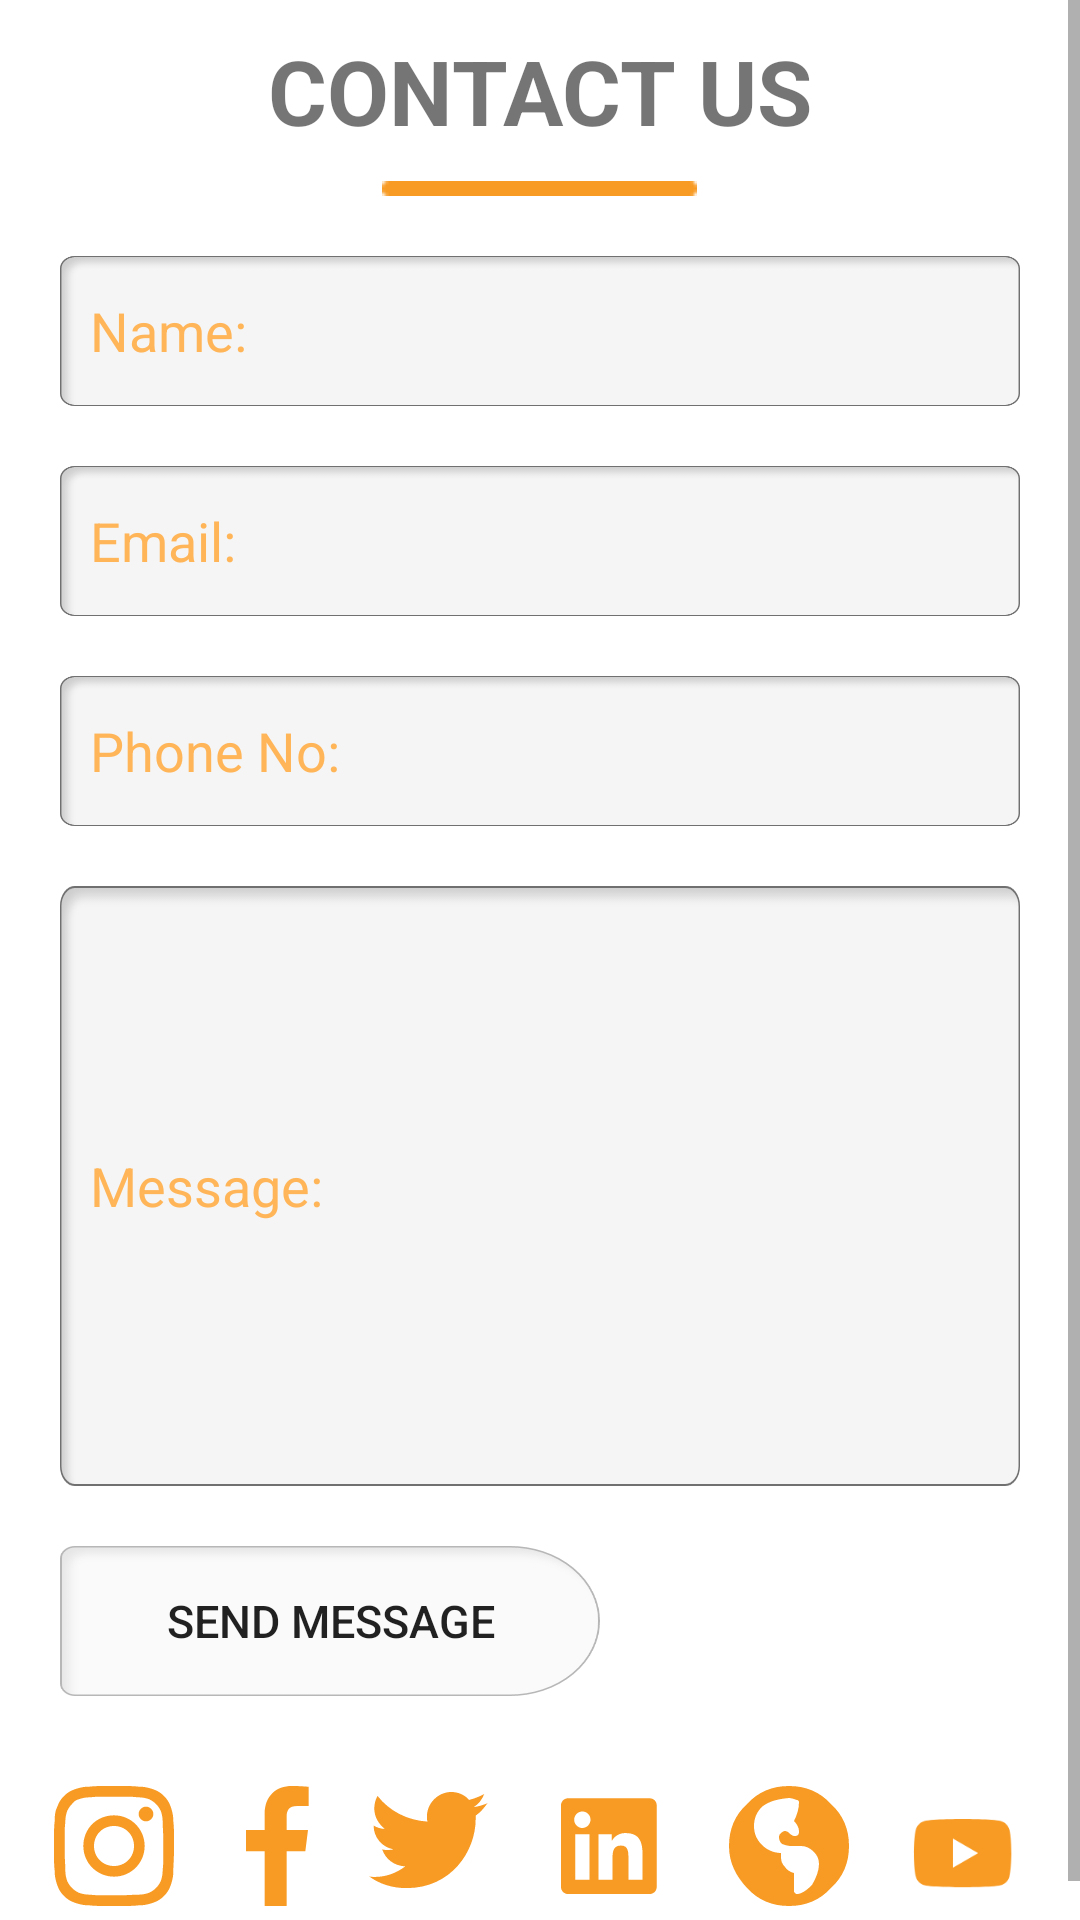

Locate icon controls on the screen. Image size 1080*1920, boxes as rect(x1, y1, x2, y2).
web: rect(729, 1786, 849, 1906)
